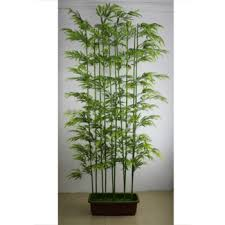bamboo: (65, 5, 162, 192)
